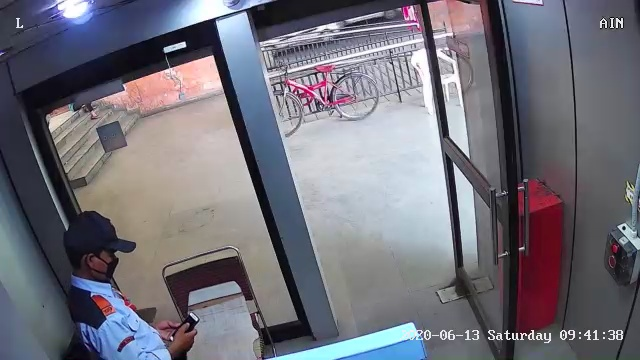open: (400, 3, 552, 354)
